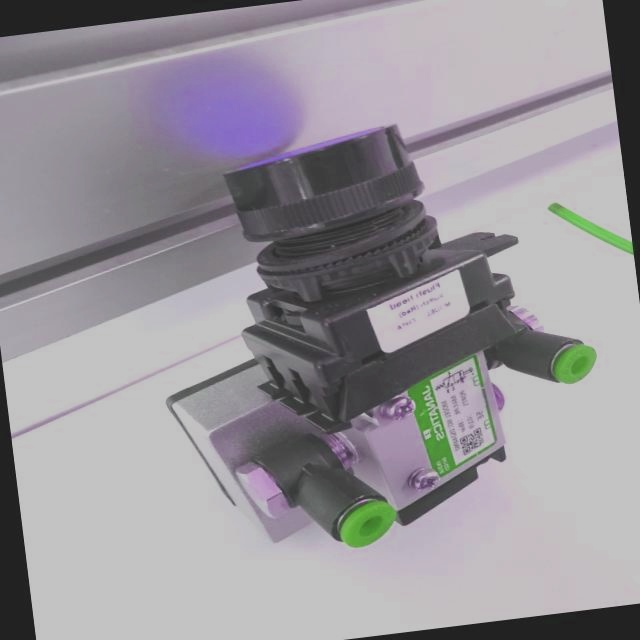push button: (135, 101, 618, 568)
